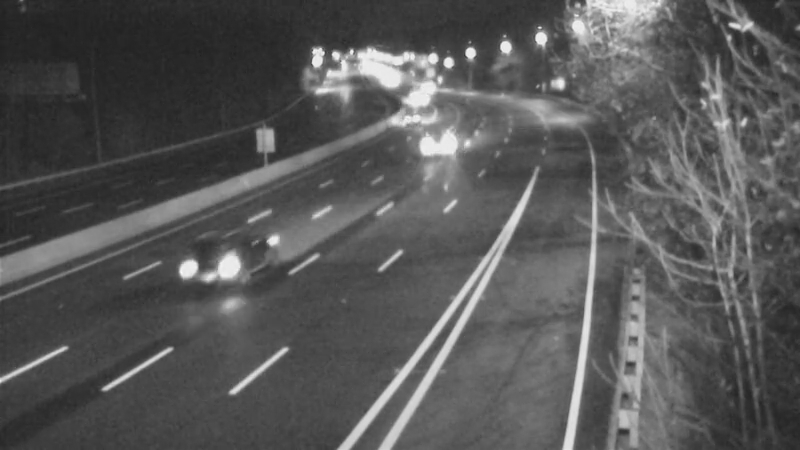vehicle: (174, 230, 254, 310), (384, 73, 434, 123), (388, 97, 438, 147), (410, 123, 460, 173)
